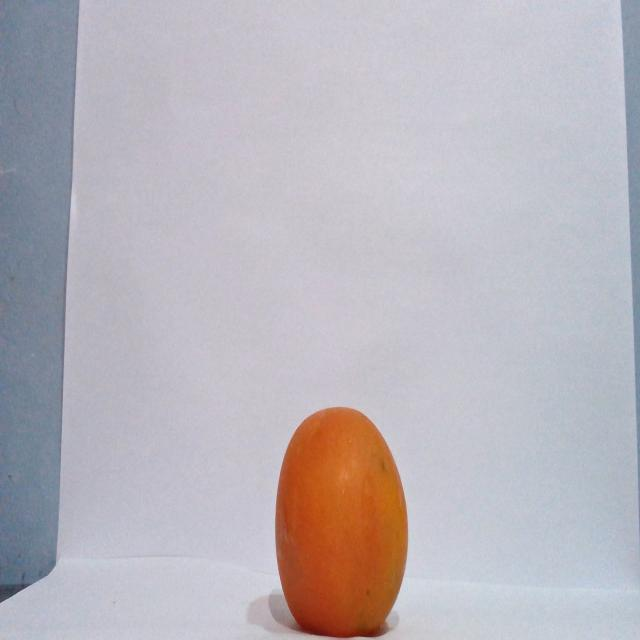Red: (273, 404, 409, 636)
